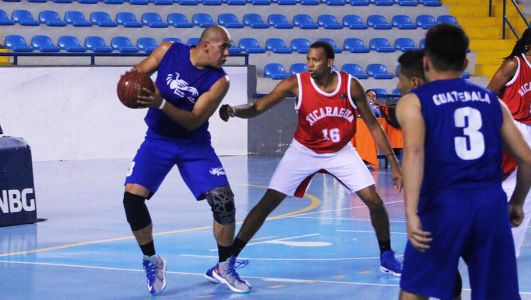baloncesto: (118, 71, 154, 108)
